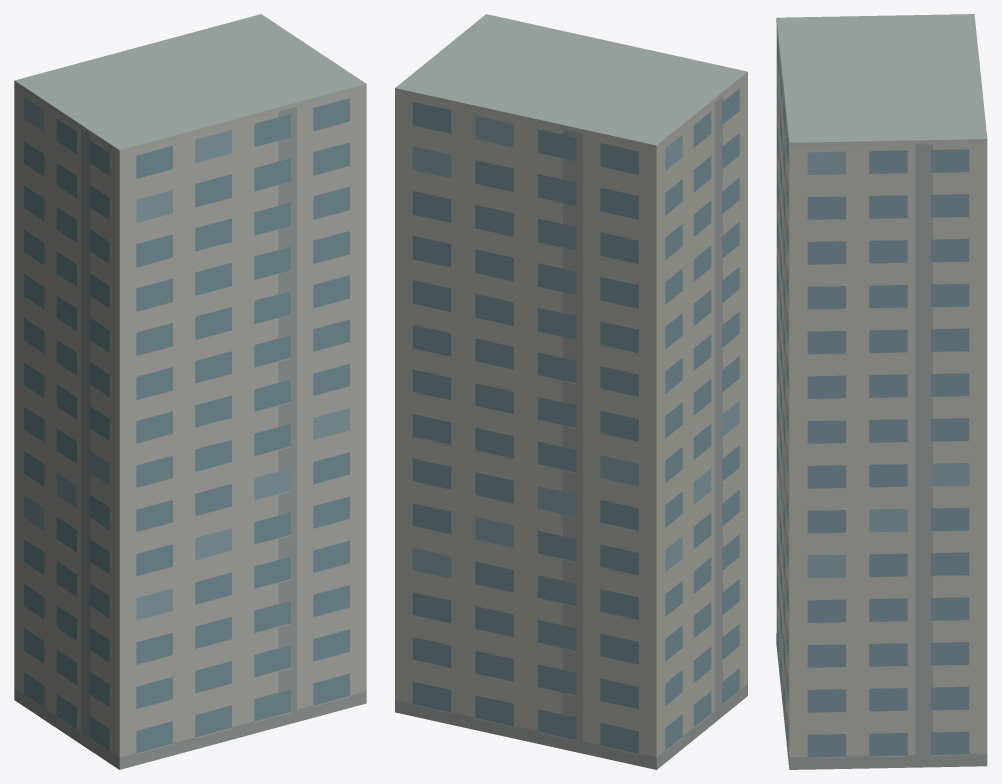
The model's file is residential-01ec6608-3c4d-44bc-bed4-454145679c99.glb.
3 views of the same model, side by side, from view 1: azimuth 30°, elevation 25°; view 2: azimuth 150°, elevation 25°; view 3: azimuth 270°, elevation 25° (orthographic).
Parts seen in each view (by area): view 1: residential-01ec6608-3c4d-44bc-bed4-454145679c99.tmp; view 2: residential-01ec6608-3c4d-44bc-bed4-454145679c99.tmp; view 3: residential-01ec6608-3c4d-44bc-bed4-454145679c99.tmp.
Boxes of the visible parts, bbox=[...] form: residential-01ec6608-3c4d-44bc-bed4-454145679c99.tmp: bbox=[14, 14, 366, 769]; residential-01ec6608-3c4d-44bc-bed4-454145679c99.tmp: bbox=[395, 14, 747, 769]; residential-01ec6608-3c4d-44bc-bed4-454145679c99.tmp: bbox=[776, 14, 987, 769].
Bounding box in the file's own units: 16.3 × 37 × 11.29.
